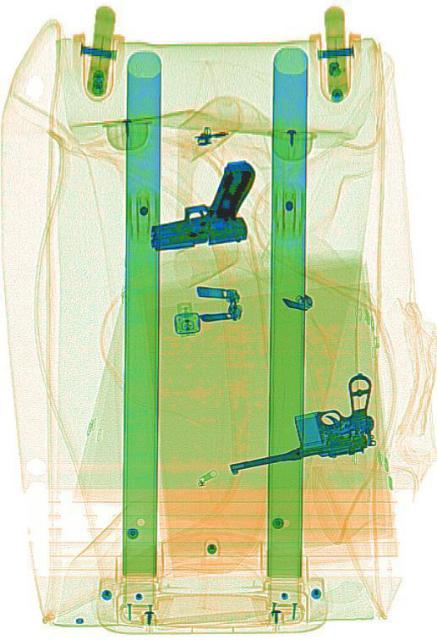Gun: (221, 369, 380, 475), (143, 156, 258, 252)
